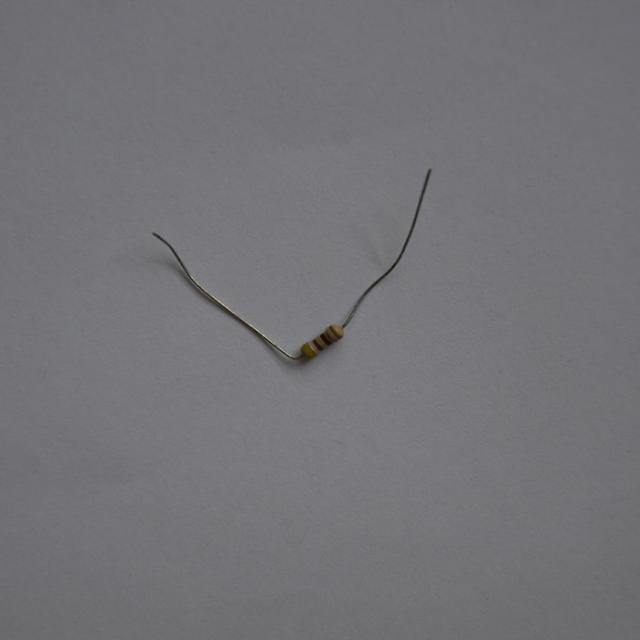brown: (320, 333, 330, 345)
resistor: (288, 315, 354, 369)
violet: (311, 340, 322, 353)
yellow: (328, 325, 341, 339), (303, 344, 315, 357)
